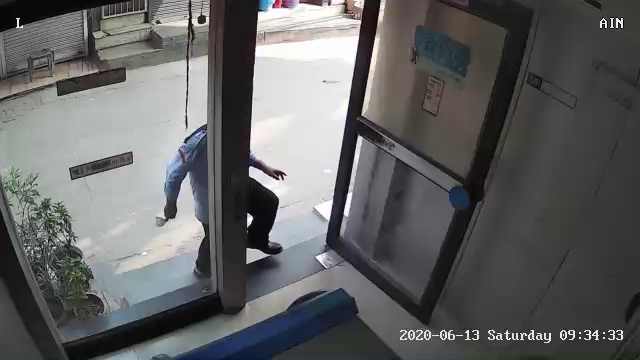open: (199, 7, 544, 327)
